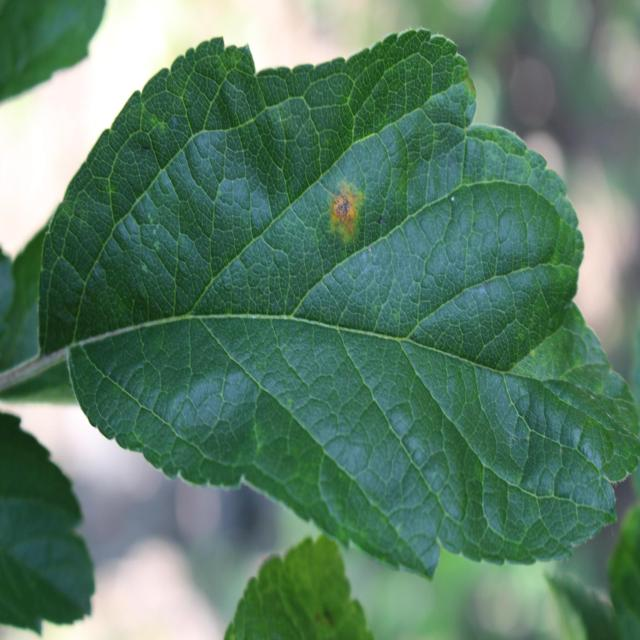Rust: (312, 178, 376, 252)
